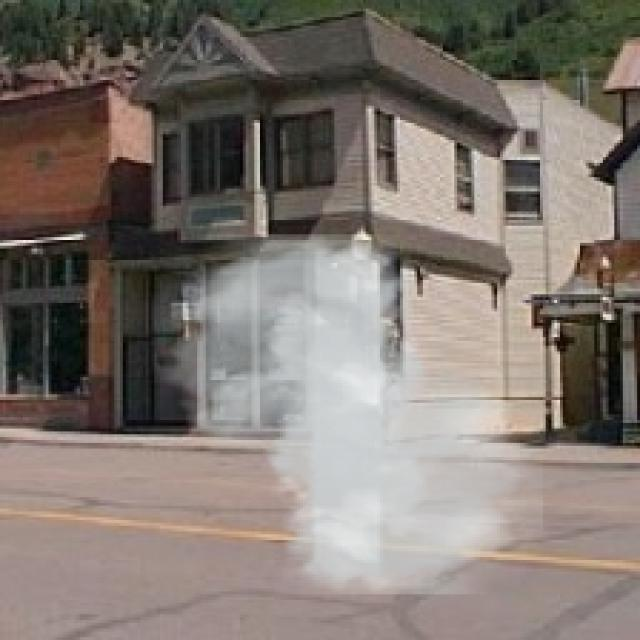smoke: (151, 235, 543, 594)
